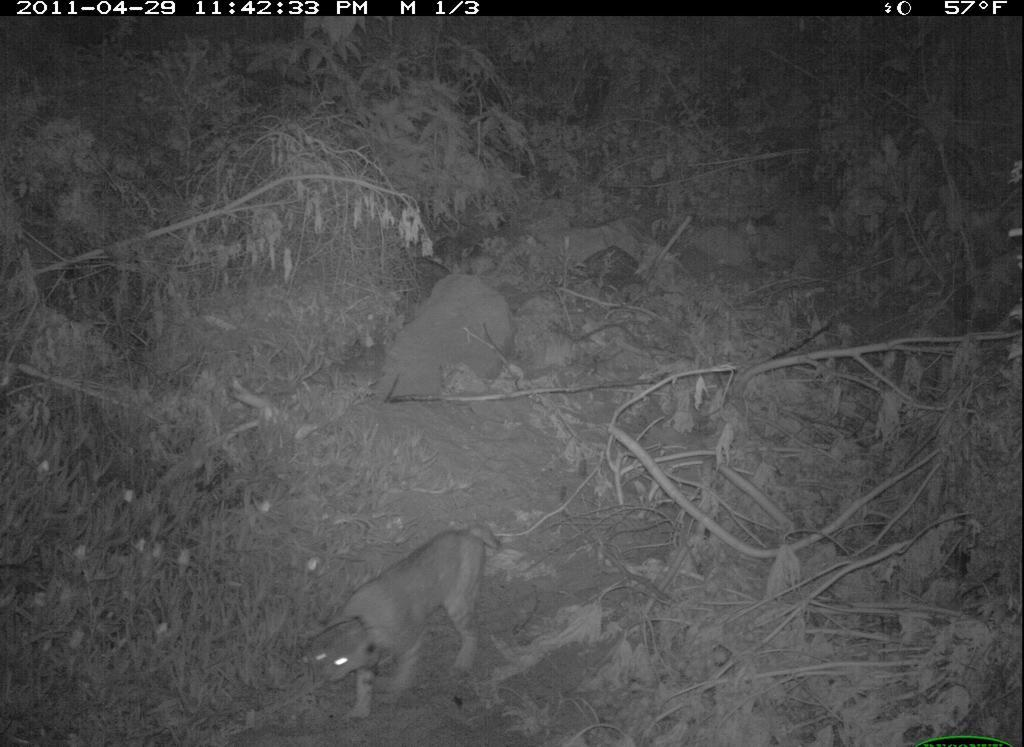bobcat: (296, 514, 509, 728)
